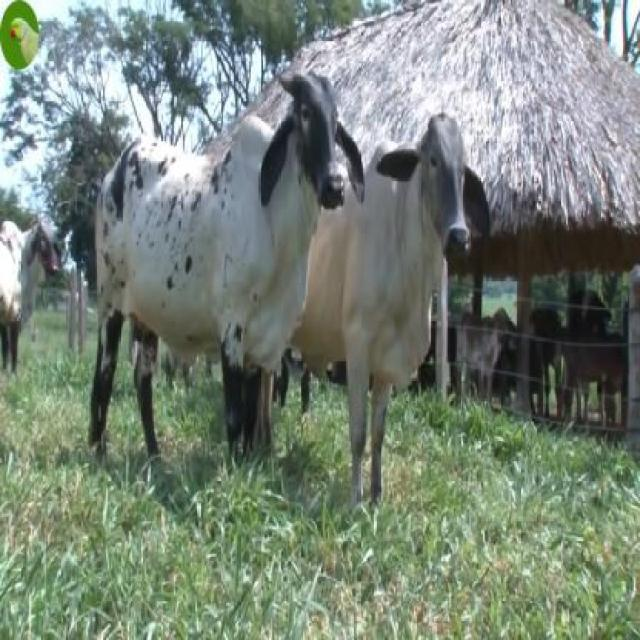Cow: (86, 65, 365, 483), (332, 105, 490, 503)
